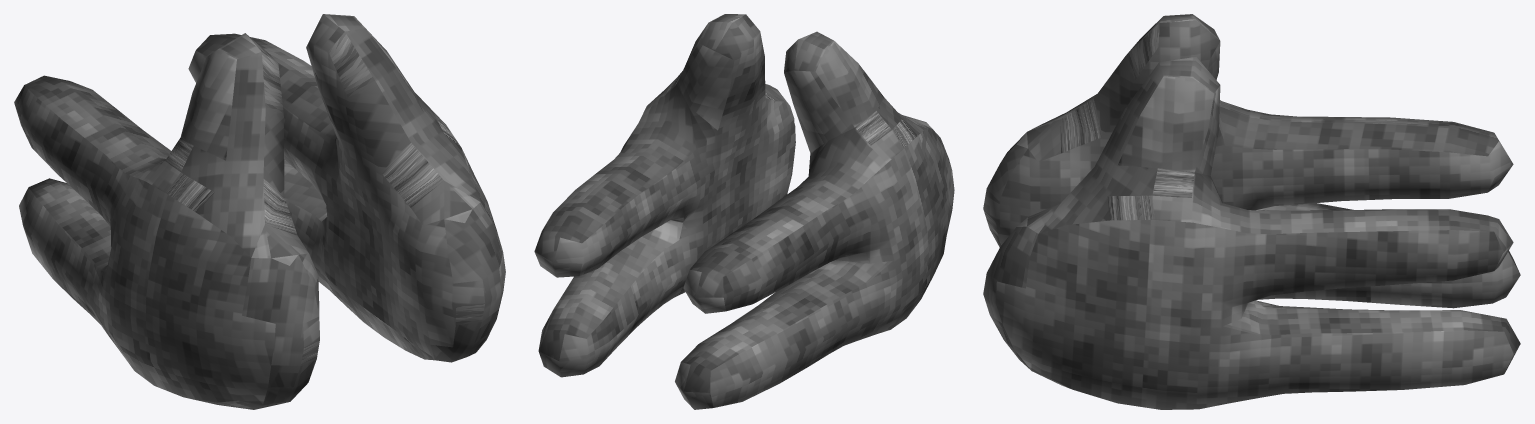
File: hand.fbx
3 views of the same model, side by side, from view 1: azimuth 30°, elevation 25°; view 2: azimuth 150°, elevation 25°; view 3: azimuth 270°, elevation 25° (orthographic). The views are drawn at different scales.
Parts seen in each view (by area): view 1: hand.l, hand.r; view 2: hand.l, hand.r; view 3: hand.r, hand.l.
Part boxes in pixels (x1=…): hand.l: x1=14, y1=33, x2=319, y2=409; hand.r: x1=188, y1=14, x2=505, y2=362; hand.l: x1=675, y1=31, x2=954, y2=409; hand.r: x1=534, y1=14, x2=795, y2=377; hand.r: x1=983, y1=57, x2=1520, y2=409; hand.l: x1=983, y1=14, x2=1520, y2=308.
Bounding box in the file's own units: 12.64 × 11.71 × 18.04.
